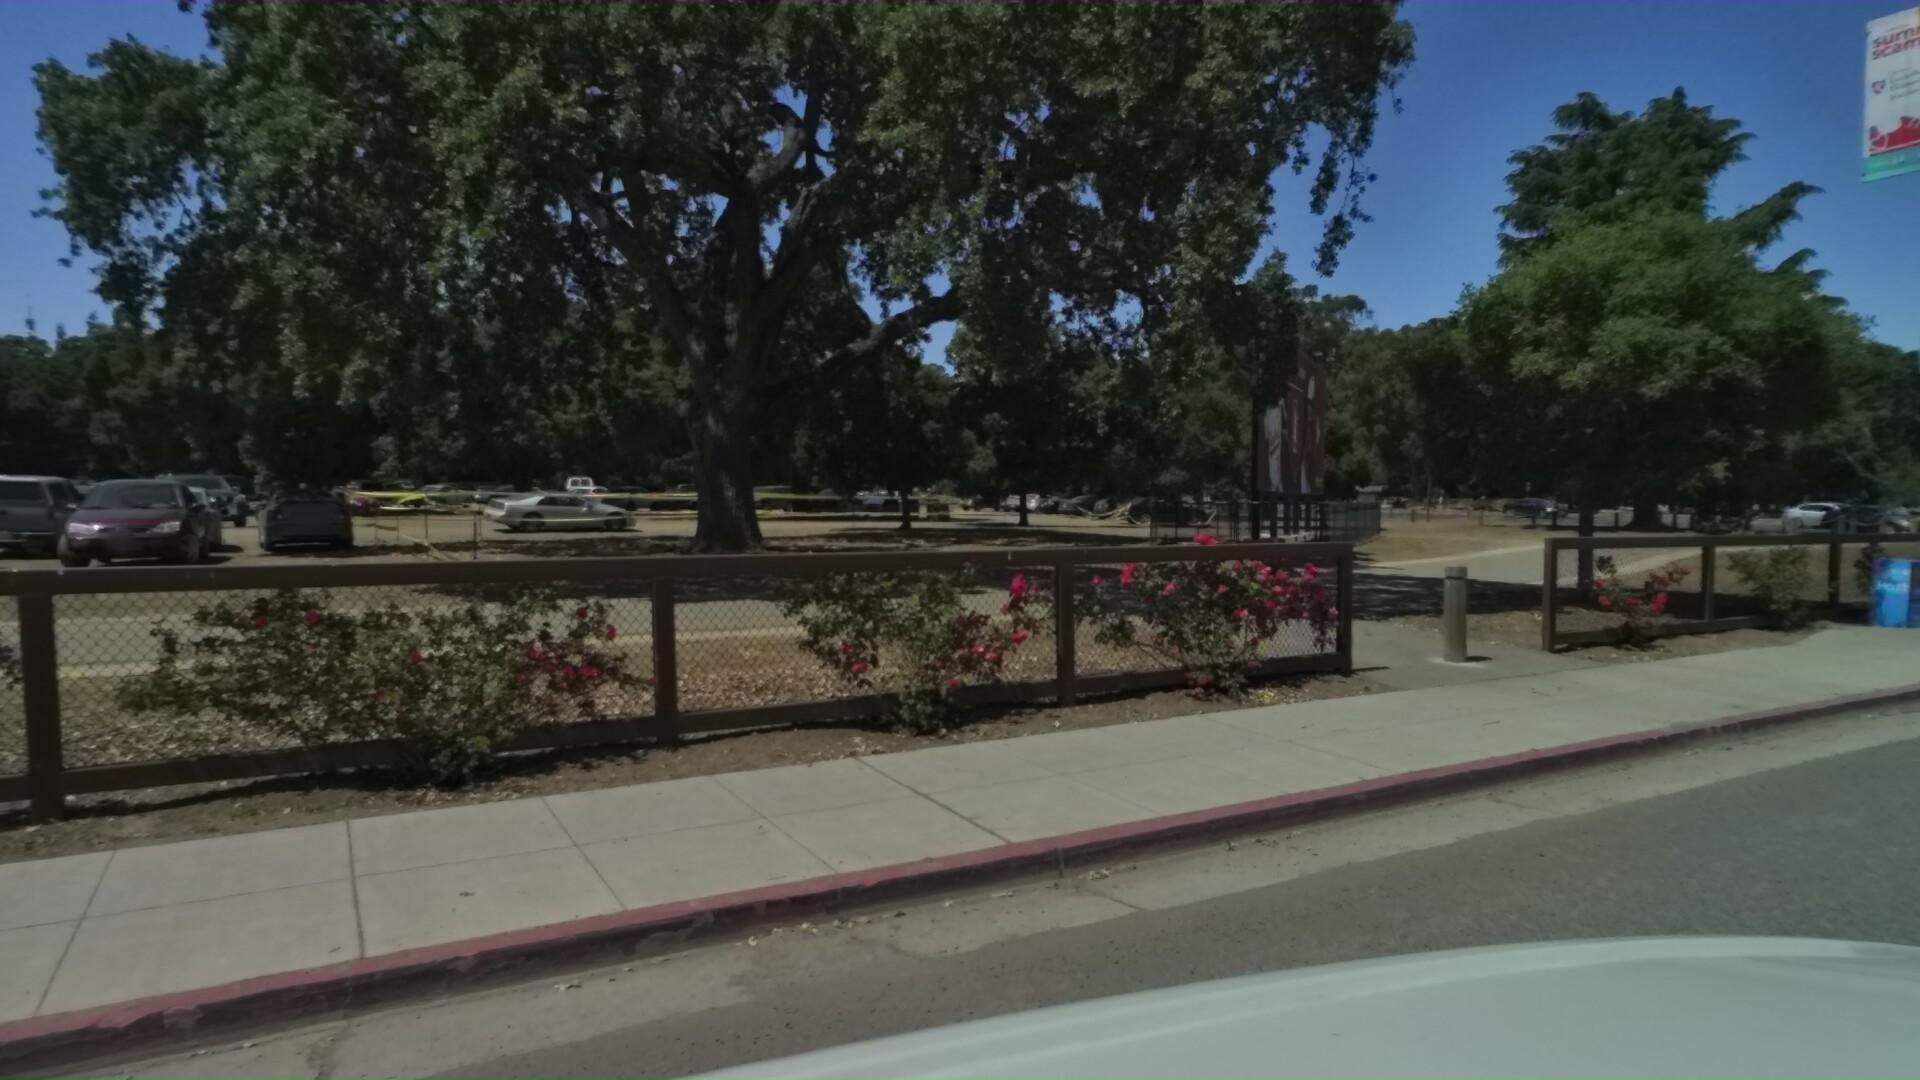car: (1815, 504, 1920, 543), (1772, 496, 1894, 530), (1498, 500, 1575, 527)
